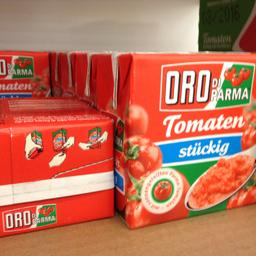tomato_sauce: (92, 49, 254, 231), (0, 94, 112, 236)
